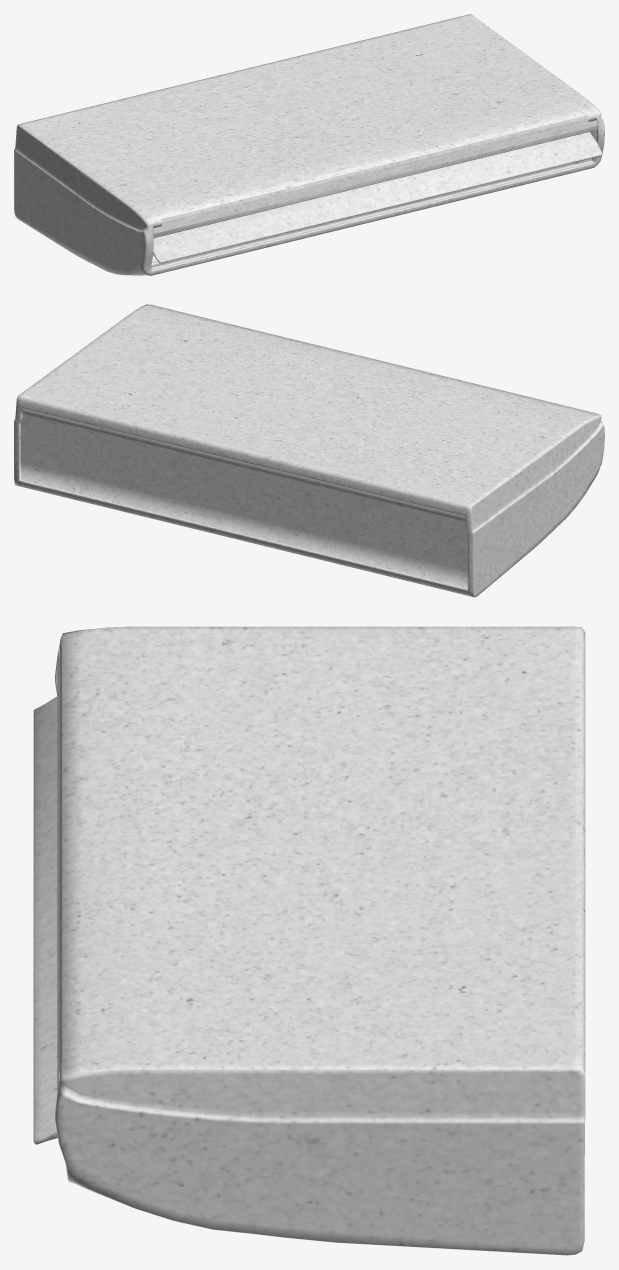
File: aire.obj
3 renders of one model, top to bottom at view 1: azimuth 30°, elevation 25°; view 2: azimuth 150°, elevation 25°; view 3: azimuth 270°, elevation 25°, orthographic. The views are drawn at different scales.
Parts seen in each view (by area): view 1: Aire_Acondicionado_-_Rafael_Blanco; view 2: Aire_Acondicionado_-_Rafael_Blanco; view 3: Aire_Acondicionado_-_Rafael_Blanco.
Part boxes in pixels (bbox=[...]): Aire_Acondicionado_-_Rafael_Blanco: bbox=[14, 14, 604, 275]; Aire_Acondicionado_-_Rafael_Blanco: bbox=[14, 304, 604, 597]; Aire_Acondicionado_-_Rafael_Blanco: bbox=[33, 626, 585, 1255].
Bounding box in the file's own units: 12.98 × 2.49 × 6.74.
